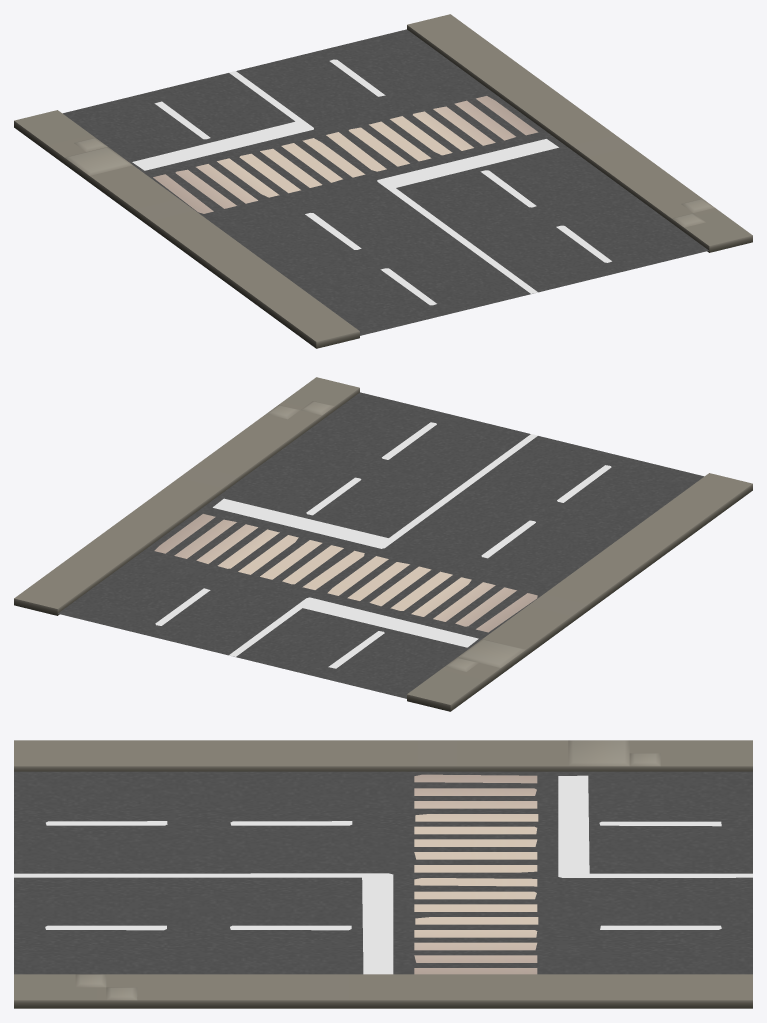
Rendered from Road9.fbx.
The picture shows the model from 3 angles, top to bottom: view 1: azimuth 30°, elevation 25°; view 2: azimuth 150°, elevation 25°; view 3: azimuth 270°, elevation 25°; orthographic projection. The views are drawn at different scales.
Visible parts, largest first — view 1: Road_1T; view 2: Road_1T; view 3: Road_1T.
Boxes of the visible parts, x1,y1,x2,y2 form: Road_1T: (14, 14, 752, 348); Road_1T: (14, 377, 752, 711); Road_1T: (14, 740, 752, 1008).
Size of the model in its own units: 37372 by 666 by 44847.
